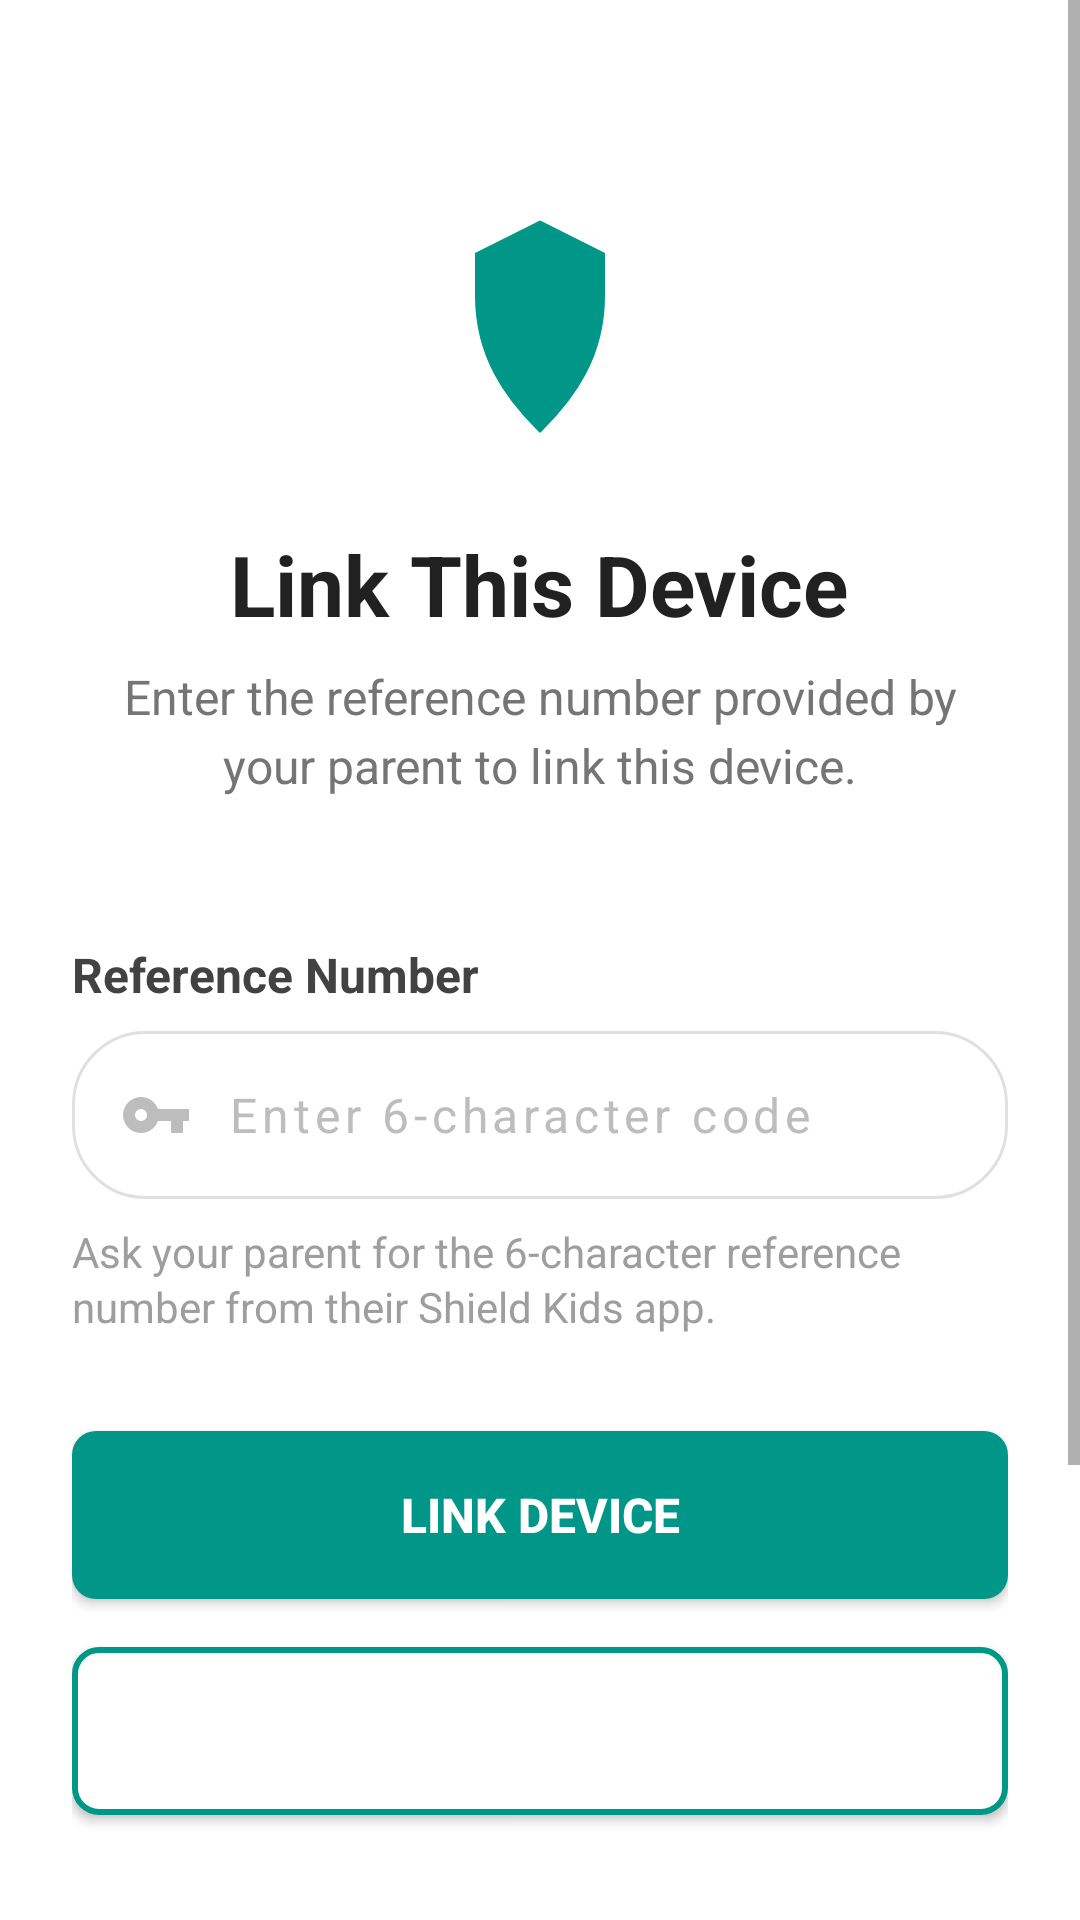

Icons on this 1080x1920 Android screen, each with its box as (x1,y1,x2,y2):
key: (123,1097,189,1133)
shield: (475,220,605,433)
